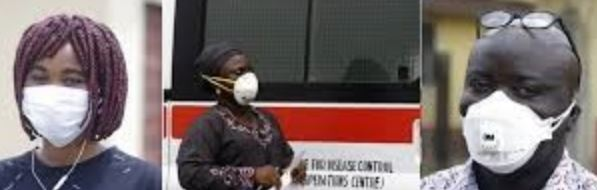with_facemask: (445, 103, 566, 168), (18, 77, 91, 147), (230, 77, 263, 109)
